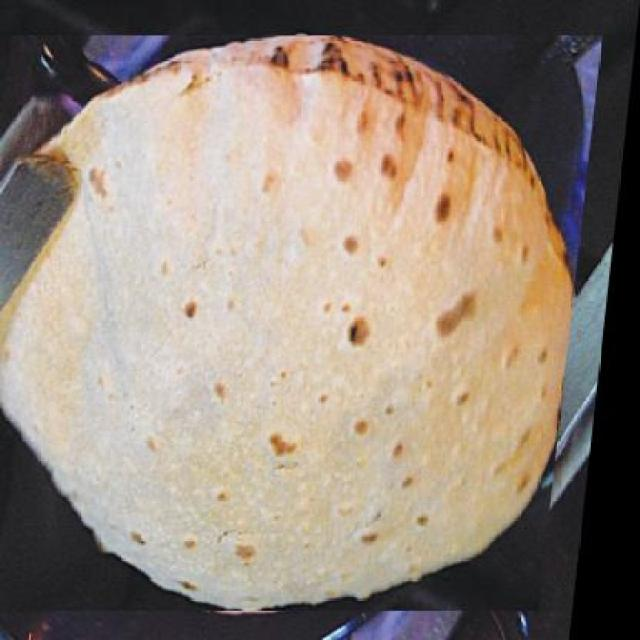chapati: (0, 35, 605, 613)
